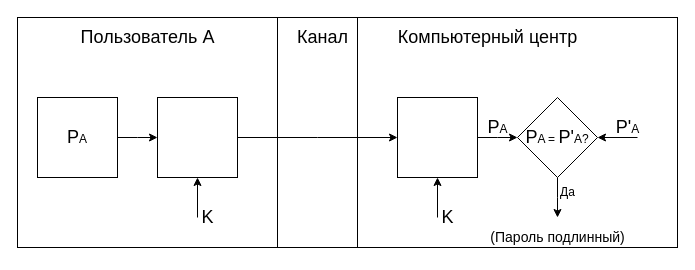
The diagram is 695 pixels wide and 270 high, and some of its shapes have lost their labels. Each missing label, with the centre of its shape:
"D K" belongs at pixel 437 137.
"E K" belongs at pixel 197 137.
